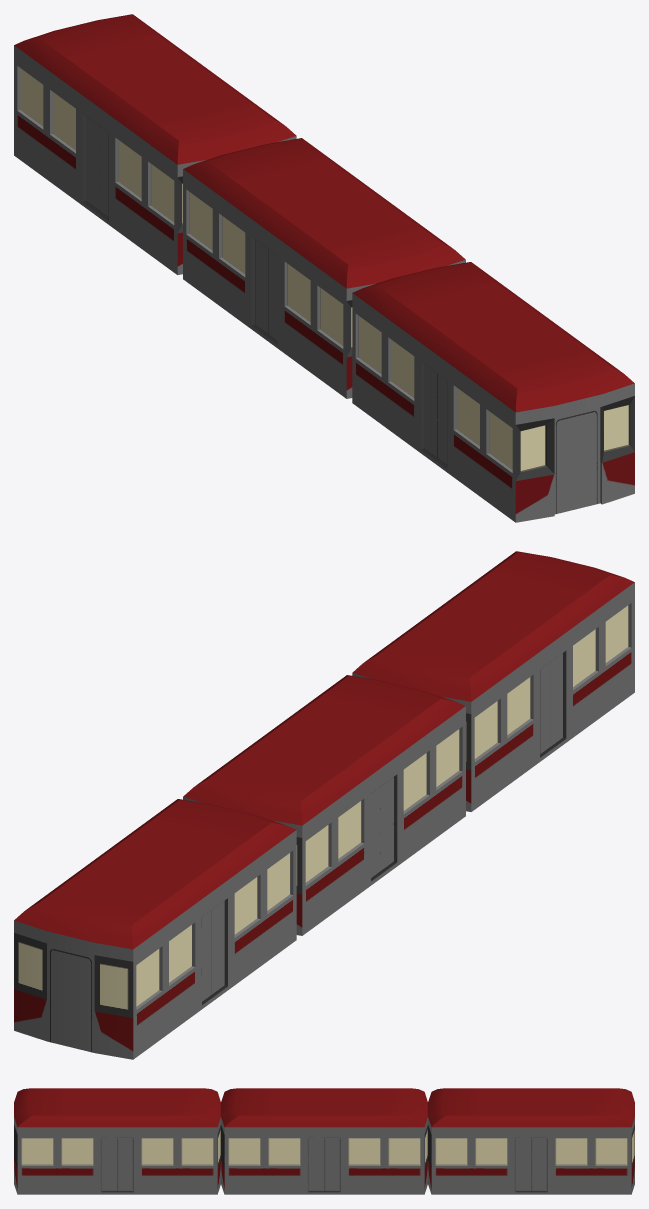
Rendered from Train.fbx.
3 views of the same model, one above another, from view 1: azimuth 30°, elevation 25°; view 2: azimuth 150°, elevation 25°; view 3: azimuth 270°, elevation 25° (orthographic). The views are drawn at different scales.
Visible parts, largest first — view 1: Train; view 2: Train; view 3: Train.
Part boxes in pixels (left/top/right/bottom): Train: left=14, top=14, right=634, bottom=522; Train: left=14, top=551, right=634, bottom=1059; Train: left=14, top=1088, right=634, bottom=1194.
Bounding box in the file's own units: 579 × 569 × 4270.
1 material, 1 textured.
